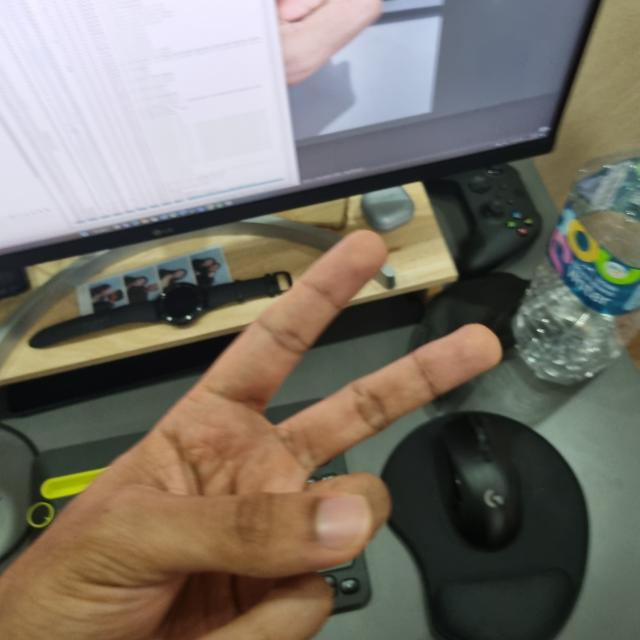Scissors: (0, 228, 507, 639)
